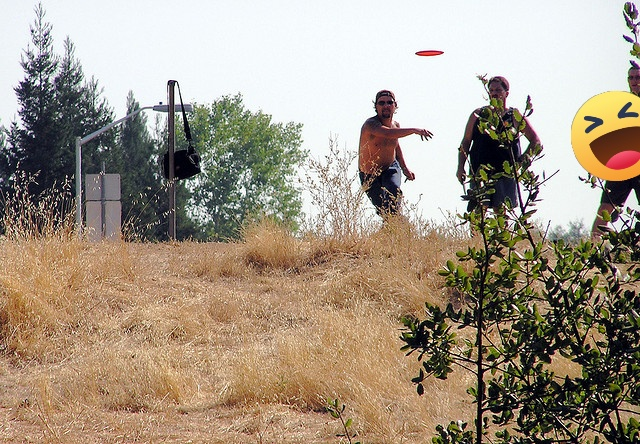haha: (571, 91, 640, 181)
